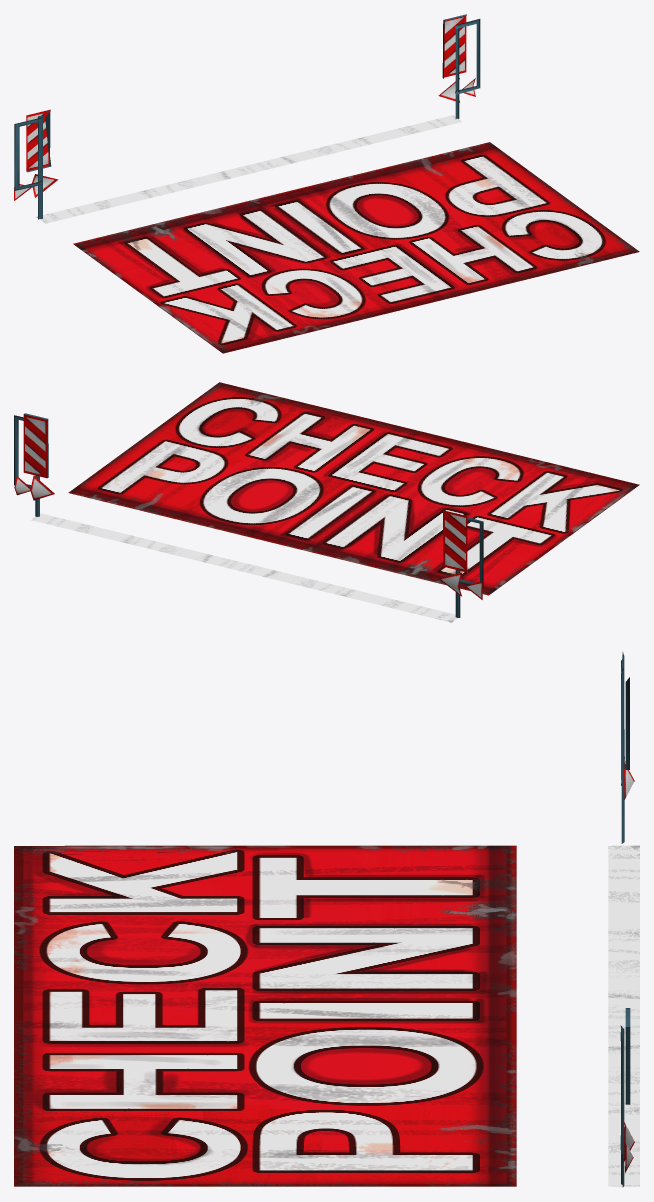
File: checkpoint.fbx
3 renders of one model, top to bottom at view 1: azimuth 30°, elevation 25°; view 2: azimuth 150°, elevation 25°; view 3: azimuth 270°, elevation 25°, orthographic. The views are drawn at different scales.
Parts seen in each view (by area): view 1: checkpoint; view 2: checkpoint; view 3: checkpoint.
Part boxes in pixels (left/top/right/bottom): checkpoint: left=14, top=14, right=639, bottom=353; checkpoint: left=14, top=382, right=639, bottom=622; checkpoint: left=14, top=651, right=639, bottom=1187.
Size of the model in its own units: 2070 by 453 by 1438.
